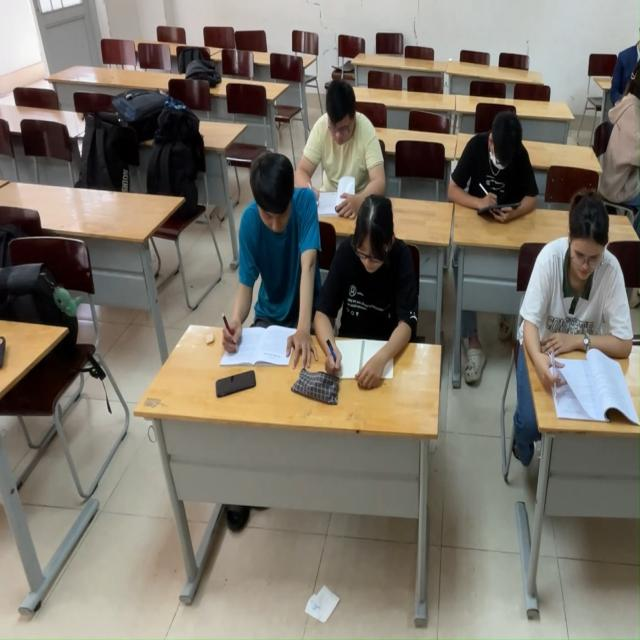read: (516, 185, 640, 429), (311, 188, 441, 412), (216, 147, 329, 380)
